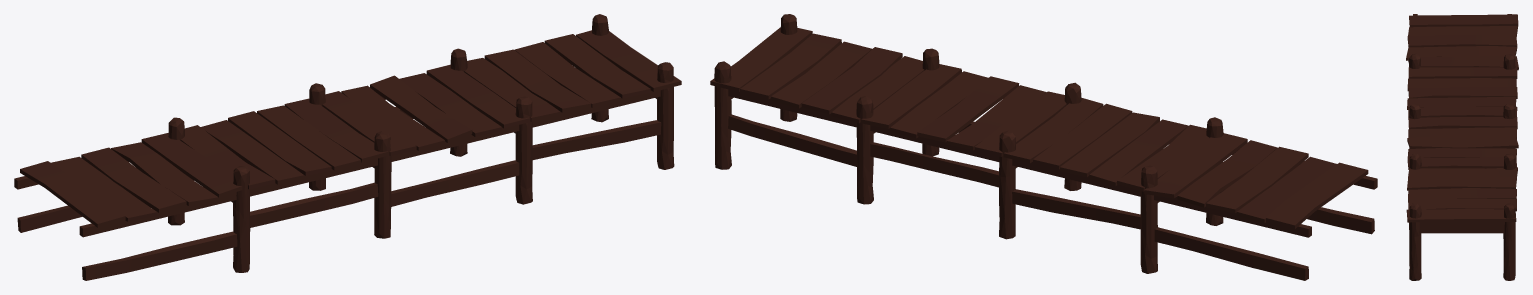
The model's file is port_wooden_bridge_a.FBX.
3 views of the same model, side by side, from view 1: azimuth 30°, elevation 25°; view 2: azimuth 150°, elevation 25°; view 3: azimuth 270°, elevation 25° (orthographic). The views are drawn at different scales.
Visible parts, largest first — view 1: port_wooden_bridge_a; view 2: port_wooden_bridge_a; view 3: port_wooden_bridge_a.
Part boxes in pixels (box(x1,y1,x2,y2)): port_wooden_bridge_a: box(14, 14, 681, 280); port_wooden_bridge_a: box(710, 14, 1377, 280); port_wooden_bridge_a: box(1406, 14, 1518, 280).
Size of the model in its own units: 1578 by 260 by 359.
